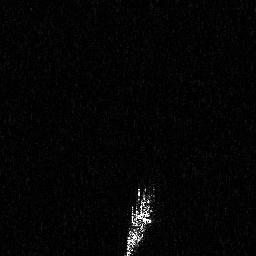ship: (125, 179, 161, 256)
